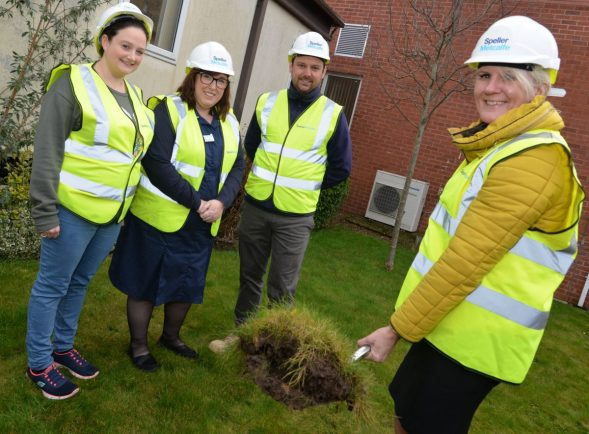Helmet: (451, 11, 565, 142), (88, 2, 156, 81), (183, 38, 238, 114), (285, 29, 337, 95)
Reflective vest: (382, 129, 586, 387), (39, 57, 158, 231), (144, 92, 240, 236), (244, 88, 347, 220)
